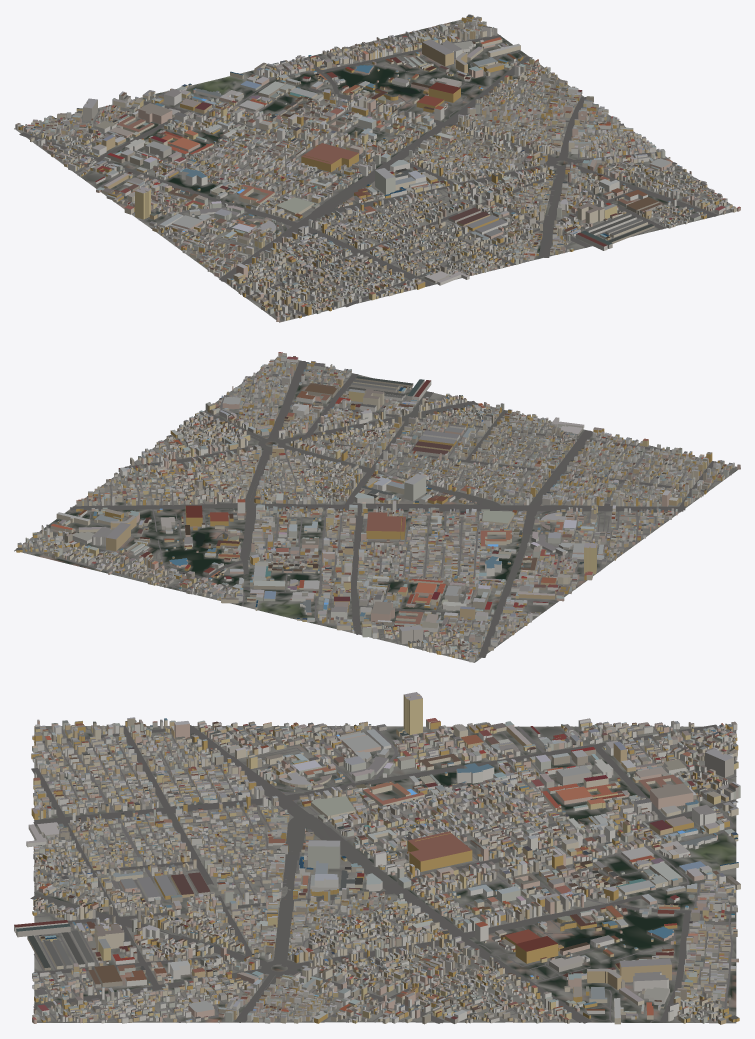
3 views of the same model, one above another, from view 1: azimuth 30°, elevation 25°; view 2: azimuth 150°, elevation 25°; view 3: azimuth 270°, elevation 25° (orthographic). The views are drawn at different scales.
Visible parts, largest first — view 1: buildings, ground, roads; view 2: buildings, ground, roads; view 3: buildings, ground, roads.
Boxes of the visible parts, x1,y1,x2,y2 form: buildings: (15, 14, 740, 321); ground: (14, 17, 733, 322); roads: (19, 17, 731, 321); buildings: (16, 352, 740, 662); ground: (14, 356, 740, 662); roads: (16, 358, 736, 661); buildings: (14, 692, 740, 1024); ground: (34, 726, 736, 1023); roads: (30, 724, 737, 1023).
Size of the model in its own units: 1418 by 80.1 by 1450.
